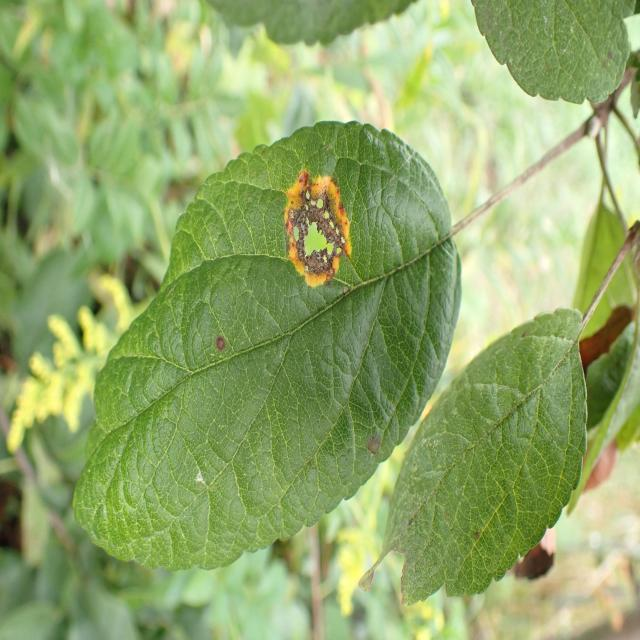rust: (72, 119, 463, 573)
